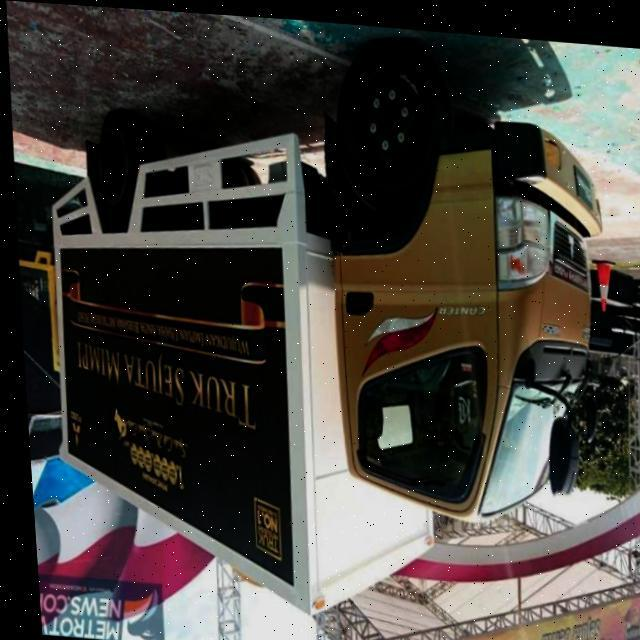truck: (31, 16, 626, 638)
